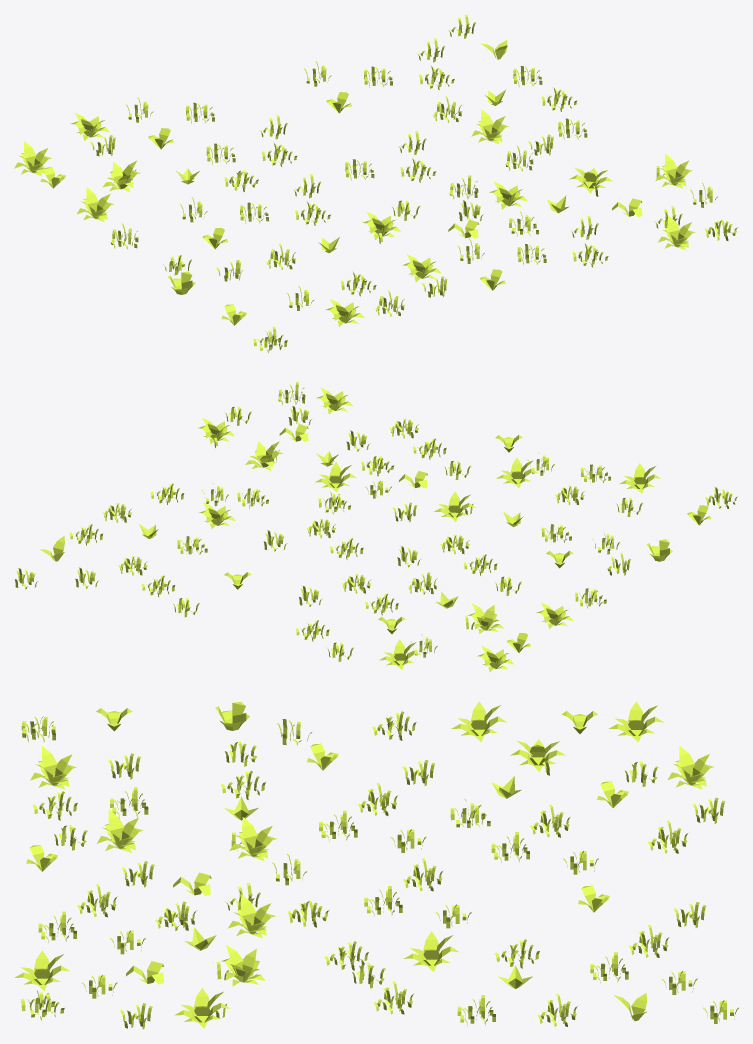
File: Tile_EndMap_Corner_Grass.fbx
3 views of the same model, one above another, from view 1: azimuth 30°, elevation 25°; view 2: azimuth 150°, elevation 25°; view 3: azimuth 270°, elevation 25° (orthographic). The views are drawn at different scales.
Parts seen in each view (by area): view 1: plant_bushDetailed.013; view 2: plant_bushDetailed.013; view 3: plant_bushDetailed.013.
Part boxes in pixels (left/top/right/bottom): plant_bushDetailed.013: left=14, top=14, right=738, bottom=352; plant_bushDetailed.013: left=14, top=382, right=737, bottom=672; plant_bushDetailed.013: left=14, top=701, right=738, bottom=1029.
Bounding box in the file's own units: 244 × 11.18 × 239.
